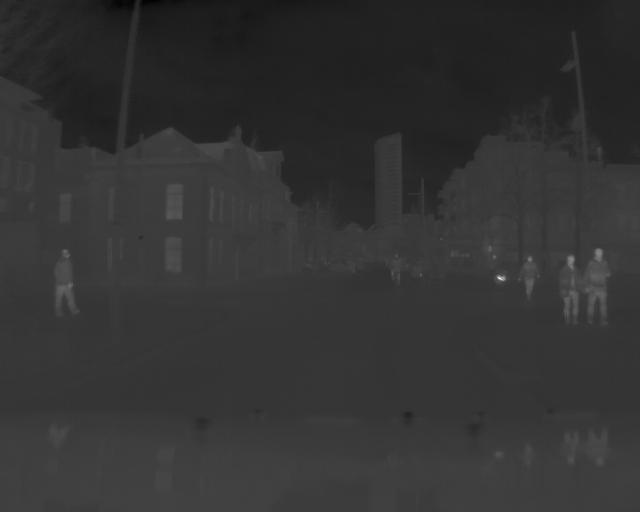person: (46, 241, 85, 324), (582, 245, 610, 332), (554, 250, 580, 333), (512, 251, 540, 310), (386, 255, 404, 290)
